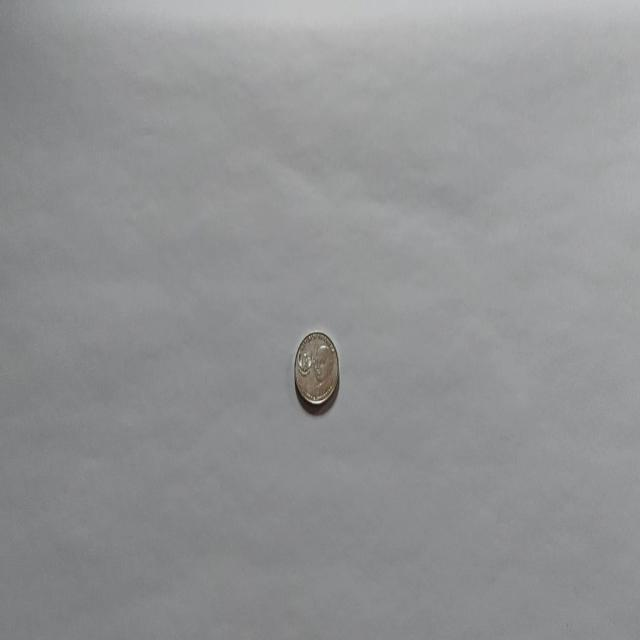lima ratus rupiah: (292, 329, 340, 408)
